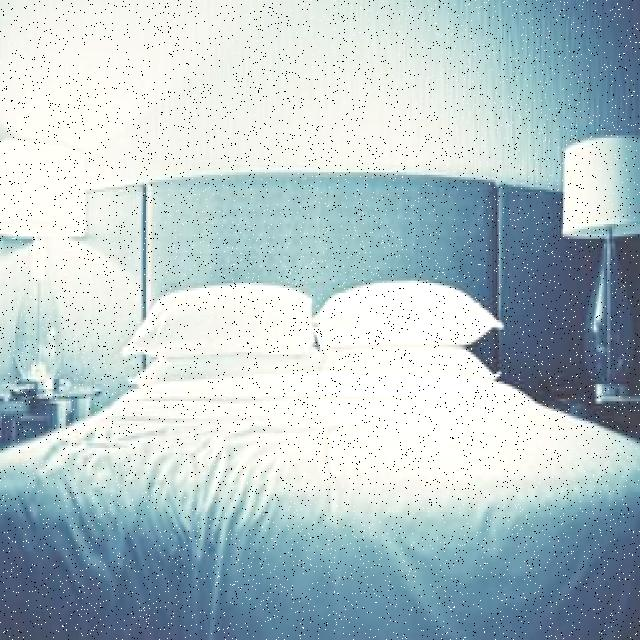bed: (3, 283, 635, 640)
